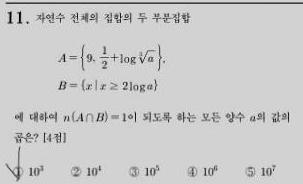choice: (4, 154, 24, 181)
not-choice: (69, 164, 82, 178), (126, 164, 140, 177), (185, 165, 197, 178), (244, 166, 256, 178)
